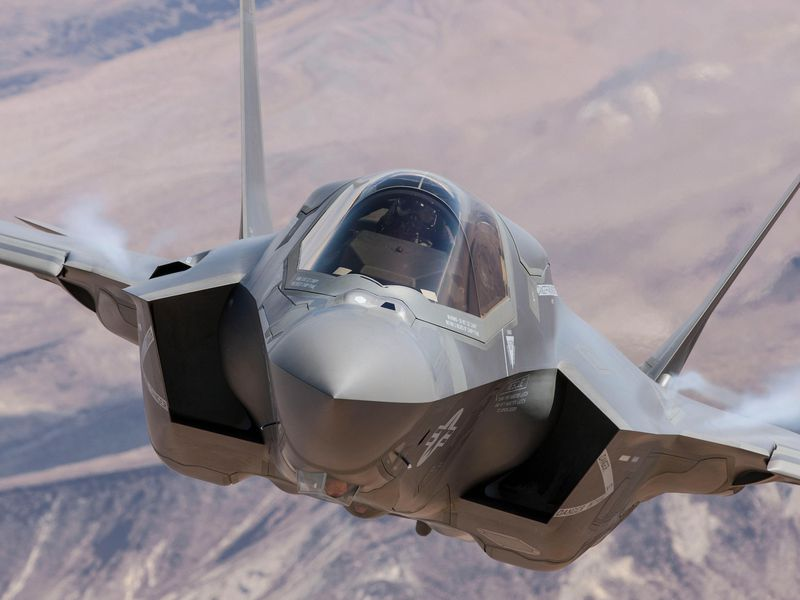F-35 Lightning: (6, 12, 795, 587)
